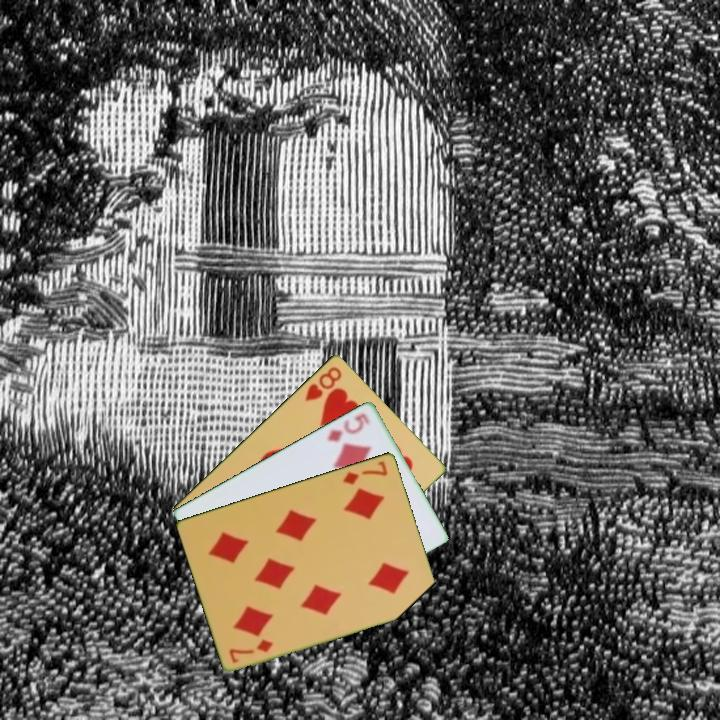5d: (323, 409, 373, 444)
7d: (226, 635, 276, 666), (340, 457, 390, 487)
8h: (301, 363, 344, 404)
